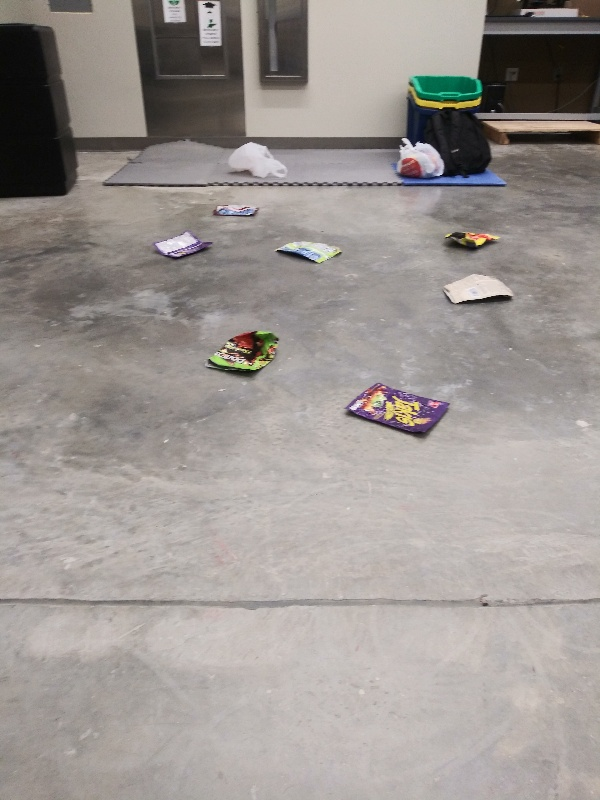bag: (341, 381, 458, 441), (201, 327, 286, 378), (432, 271, 522, 306), (272, 237, 348, 265), (149, 230, 215, 261), (439, 226, 505, 251), (210, 200, 264, 221)
